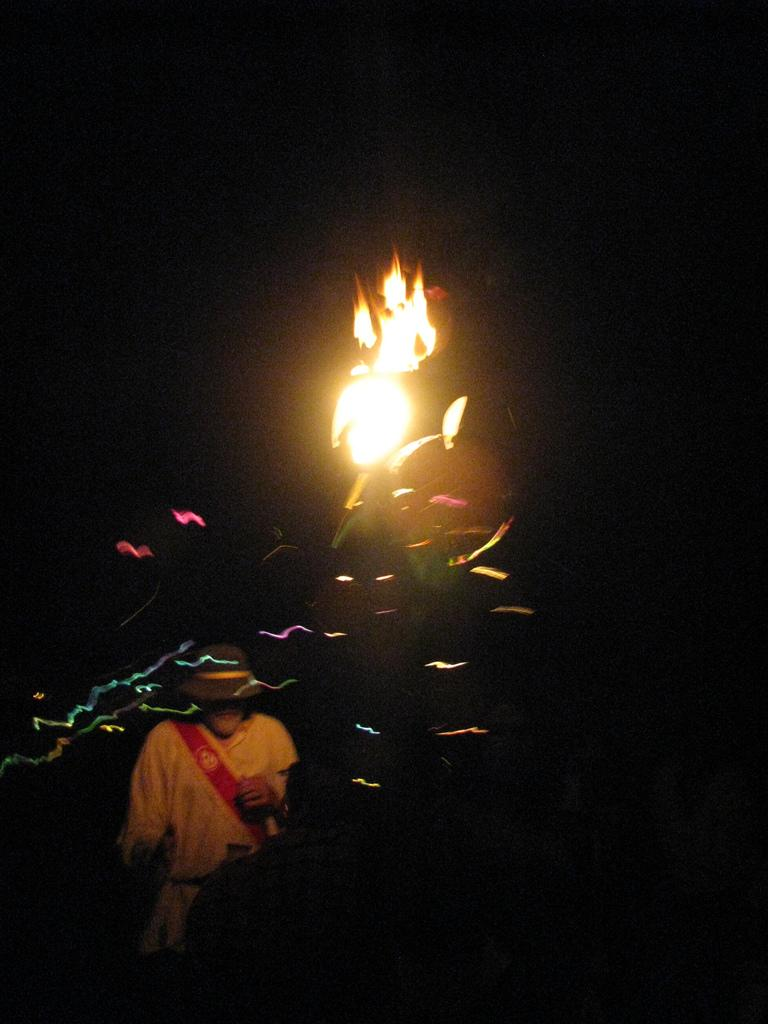fire: (342, 295, 432, 458)
